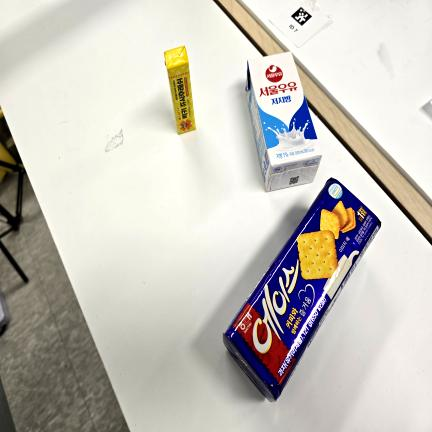cracker_ace: (223, 178, 381, 401), (246, 59, 312, 157)
gum_yellow: (164, 46, 196, 134)
milk_blue: (245, 53, 322, 191)
